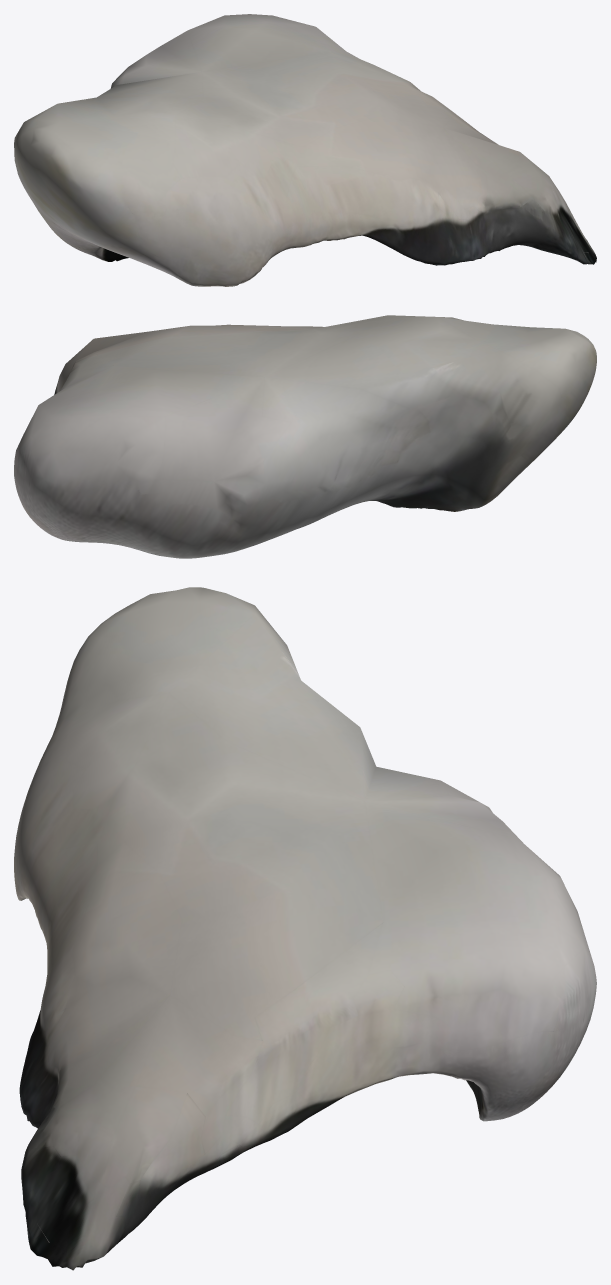
3 renders of one model, top to bottom at view 1: azimuth 30°, elevation 25°; view 2: azimuth 150°, elevation 25°; view 3: azimuth 270°, elevation 25°, orthographic. The views are drawn at different scales.
Size of the model in its own units: 0.2168 by 0.0874 by 0.1435.
1 material, 1 textured.
